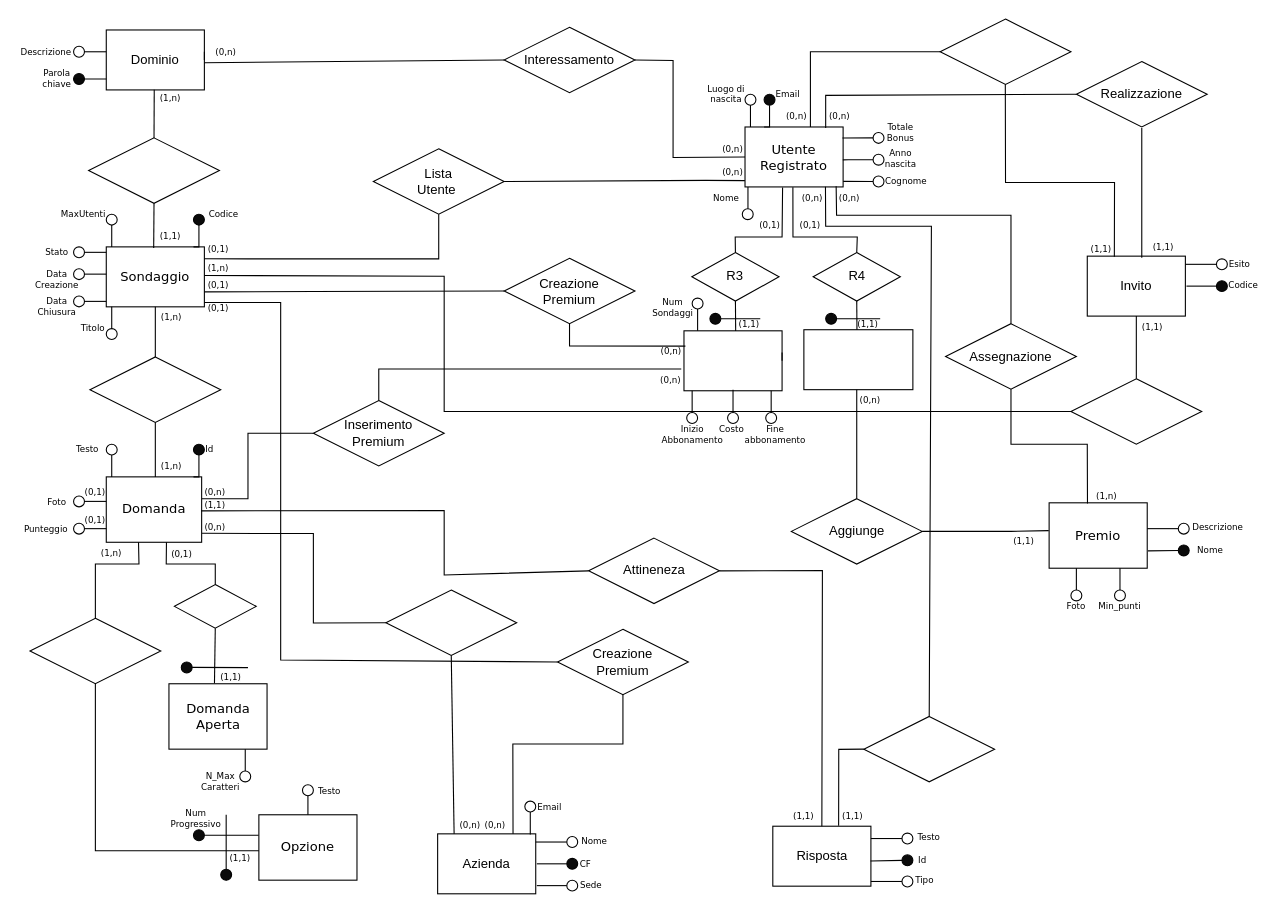
Some shapes in this 1283 by 916 pixel diagram are drawn without their labels. Here are the shapes that lost their labels. From the top down, the box of each, then its label:
(939, 18, 1071, 84): Ricevimento Invito
(88, 137, 219, 203): Appertenenza
(683, 330, 782, 391): Premium
(803, 329, 913, 390): Amministratore
(89, 356, 221, 422): Composizione
(1070, 378, 1202, 444): Riferimento
(173, 583, 256, 628): R2
(385, 589, 517, 655): Inserimento Azienda
(29, 617, 161, 684): Disposizione
(863, 715, 995, 782): Immissione
